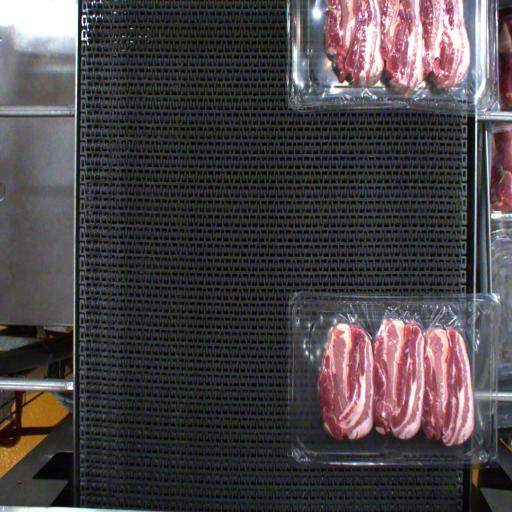unsealed: (288, 290, 499, 456)
